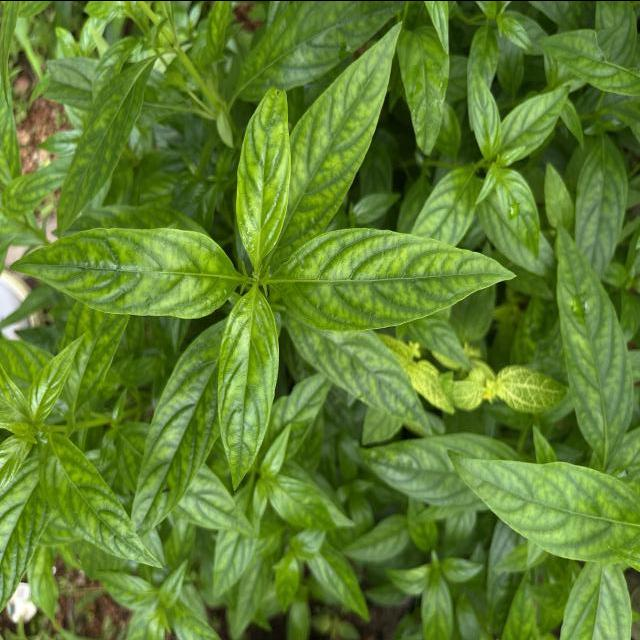Andrographis paniculata: (268, 224, 520, 336), (286, 18, 408, 234), (443, 446, 640, 566), (7, 221, 240, 320), (126, 318, 227, 536), (55, 51, 163, 238), (554, 222, 636, 460), (36, 430, 164, 571), (214, 286, 284, 492), (232, 83, 294, 270), (397, 24, 451, 158), (496, 80, 575, 162), (26, 330, 88, 422), (494, 169, 542, 263)
